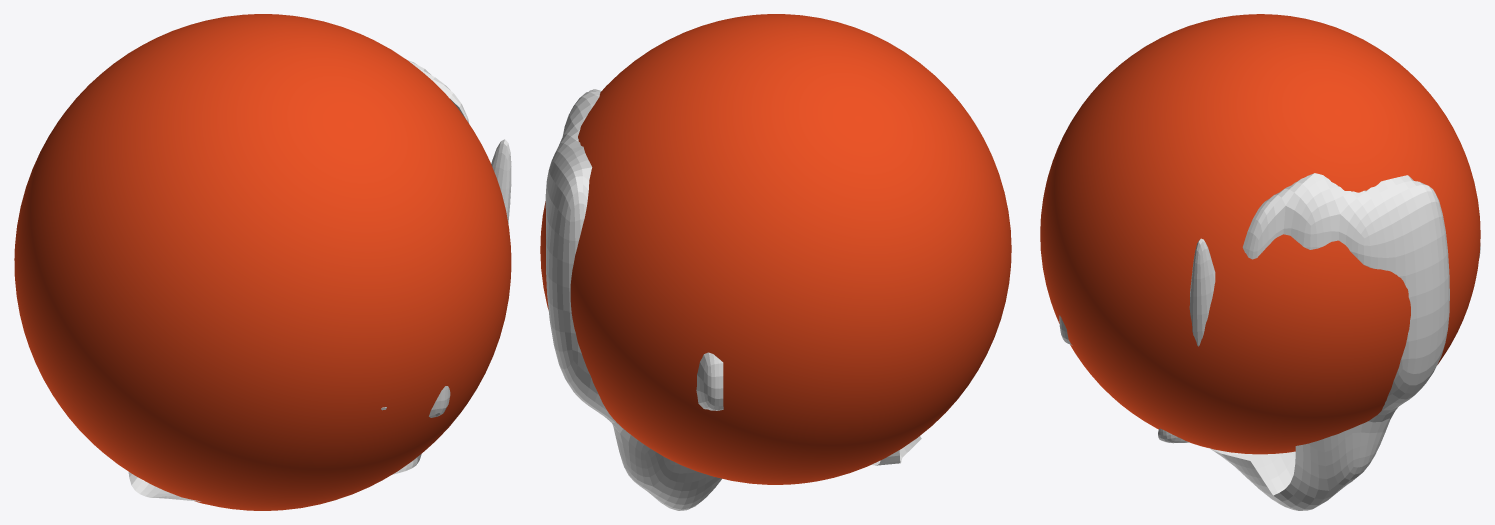
The model's file is planet2.fbx.
The picture shows the model from 3 angles, left to right: view 1: azimuth 30°, elevation 25°; view 2: azimuth 150°, elevation 25°; view 3: azimuth 270°, elevation 25°; orthographic projection. The views are drawn at different scales.
Visible parts, largest first — view 1: Cube; view 2: Cube; view 3: Cube.
Boxes of the visible parts, bbox=[...] form: Cube: bbox=[14, 14, 511, 510]; Cube: bbox=[540, 14, 1011, 510]; Cube: bbox=[1040, 14, 1480, 510].
Bounding box in the file's own units: 190 × 210 × 190.
